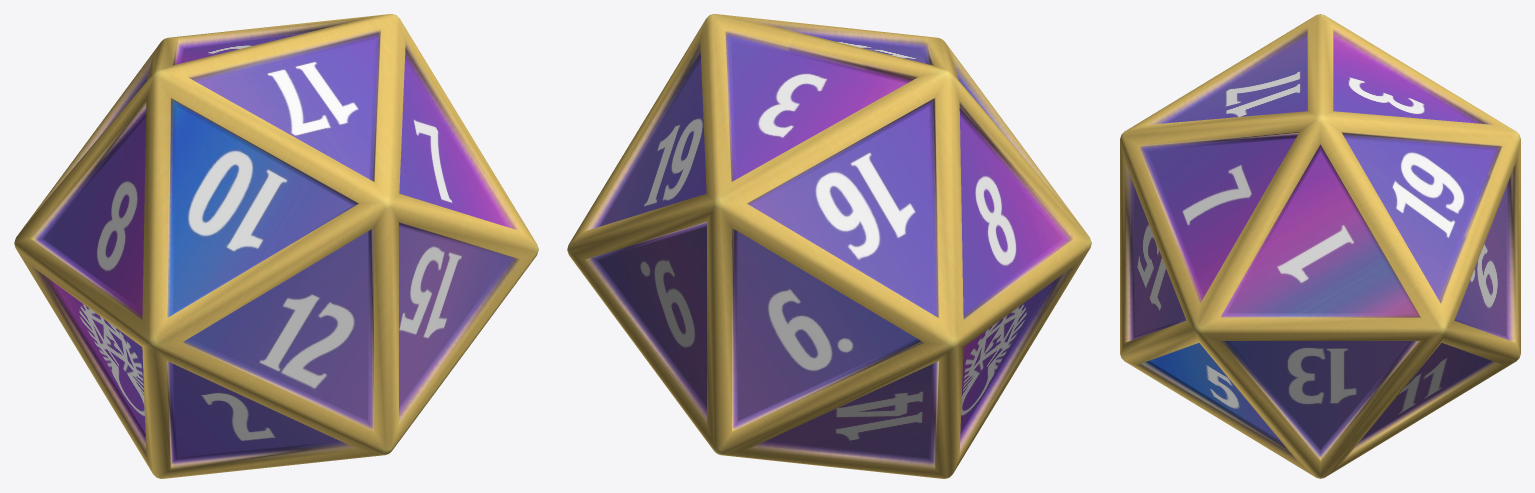
File: dice_20.gltf
3 renders of one model, left to right at view 1: azimuth 30°, elevation 25°; view 2: azimuth 150°, elevation 25°; view 3: azimuth 270°, elevation 25°, orthographic. The views are drawn at different scales.
Parts seen in each view (by area): view 1: dice_20; view 2: dice_20; view 3: dice_20.
Boxes of the visible parts, bbox=[...] form: dice_20: bbox=[14, 14, 538, 478]; dice_20: bbox=[567, 14, 1091, 478]; dice_20: bbox=[1120, 14, 1520, 478].
Size of the model in its own units: 170 by 170 by 170.
1 material, 1 textured.
